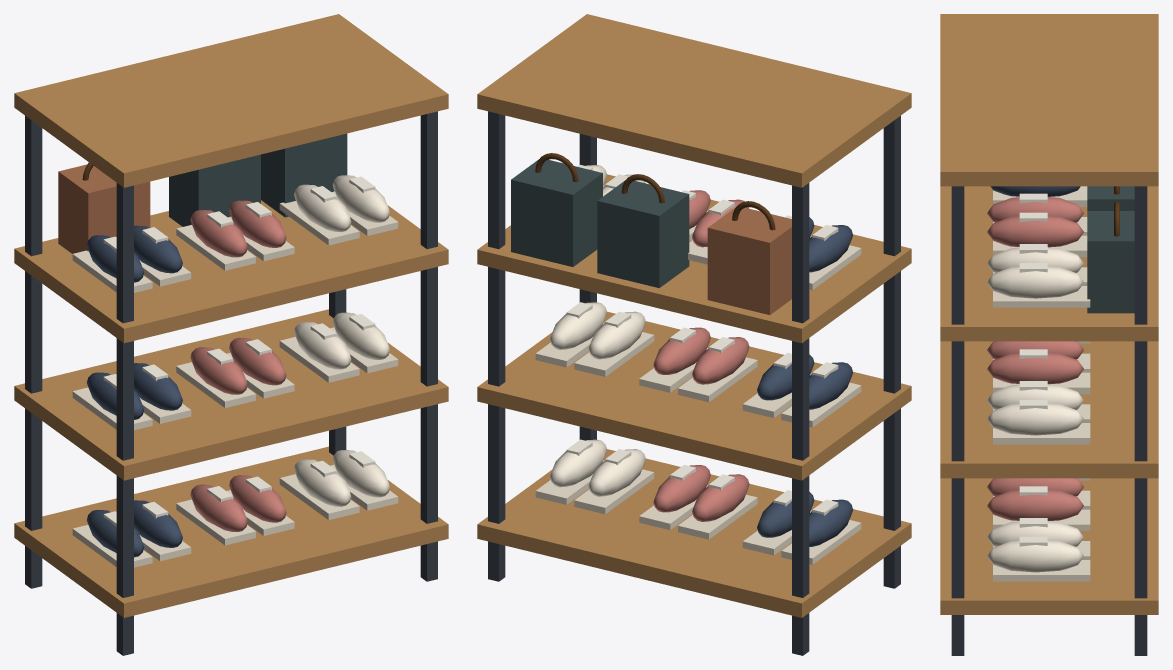
Rendered from shelf-clothing-shoes.glb.
3 renders of one model, left to right at view 1: azimuth 30°, elevation 25°; view 2: azimuth 150°, elevation 25°; view 3: azimuth 270°, elevation 25°, orthographic.
Parts seen in each view (by area): view 1: shoe-display-deck (×4), fixture-upright (×4), stock-packages_e9dfcc, stock-produce_f1e8d8, stock-produce_c17b73, stock-packages_3f5051, stock-produce_404e64, stock-packages_a66e4d, stock-details_f5f0e3; view 2: shoe-display-deck (×4), fixture-upright (×4), stock-packages_3f5051, stock-packages_e9dfcc, stock-packages_a66e4d, stock-produce_c17b73, stock-produce_f1e8d8, stock-produce_404e64, stock-details_f5f0e3; view 3: shoe-display-deck (×4), fixture-upright (×2), stock-produce_f1e8d8, stock-produce_c17b73, stock-packages_e9dfcc, stock-packages_3f5051, stock-details_f5f0e3, stock-produce_404e64.
Part boxes in pixels (box(x1,y1,x2,y2)): shoe-display-deck (×4): box(14, 14, 448, 617); fixture-upright (×4): box(25, 111, 437, 655); stock-packages_e9dfcc: box(72, 191, 398, 567); stock-produce_f1e8d8: box(294, 175, 389, 506); stock-produce_c17b73: box(190, 200, 286, 531); stock-packages_3f5051: box(169, 133, 347, 226); stock-produce_404e64: box(86, 225, 182, 557); stock-packages_a66e4d: box(58, 164, 150, 253); stock-details_f5f0e3: box(103, 176, 375, 526); shoe-display-deck (×4): box(477, 14, 911, 617); fixture-upright (×4): box(488, 111, 900, 655); stock-packages_3f5051: box(511, 159, 689, 288); stock-packages_e9dfcc: box(535, 185, 861, 564); stock-packages_a66e4d: box(707, 207, 791, 314); stock-produce_c17b73: box(653, 190, 749, 521); stock-produce_f1e8d8: box(550, 165, 645, 496); stock-produce_404e64: box(757, 217, 852, 546); stock-details_f5f0e3: box(566, 165, 838, 515); shoe-display-deck (×4): box(940, 14, 1158, 614); fixture-upright (×2): box(951, 186, 1147, 655); stock-produce_f1e8d8: box(987, 247, 1083, 572); stock-produce_c17b73: box(987, 196, 1083, 520); stock-packages_e9dfcc: box(993, 186, 1090, 581); stock-packages_3f5051: box(1087, 186, 1134, 313); stock-details_f5f0e3: box(1019, 193, 1047, 546); stock-produce_404e64: box(990, 186, 1080, 196).
Bounding box in the file's own units: 0.94 × 1.35 × 0.55.
